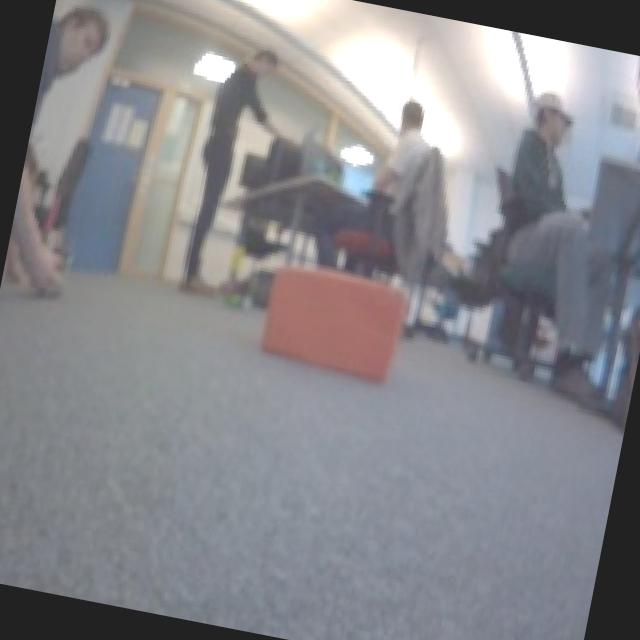robot: (218, 276, 260, 318)
target: (252, 252, 412, 386)
